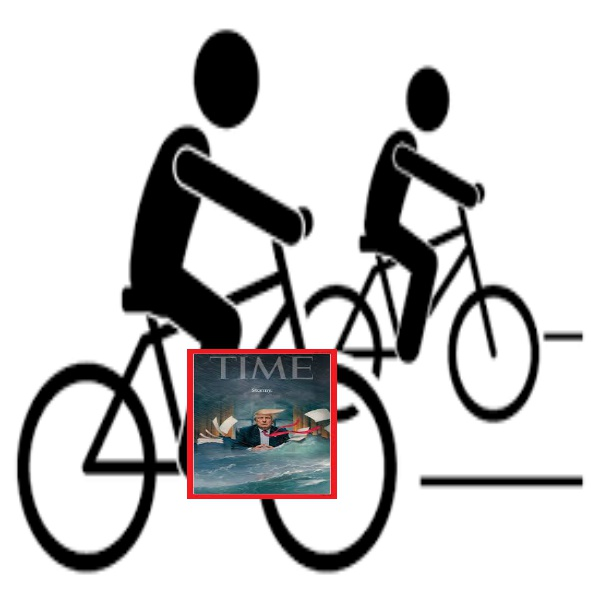time_cover: (179, 339, 348, 495)
